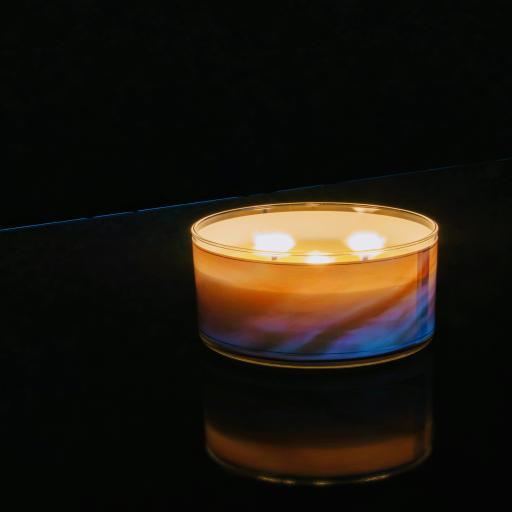candlelight: (168, 190, 448, 389)
